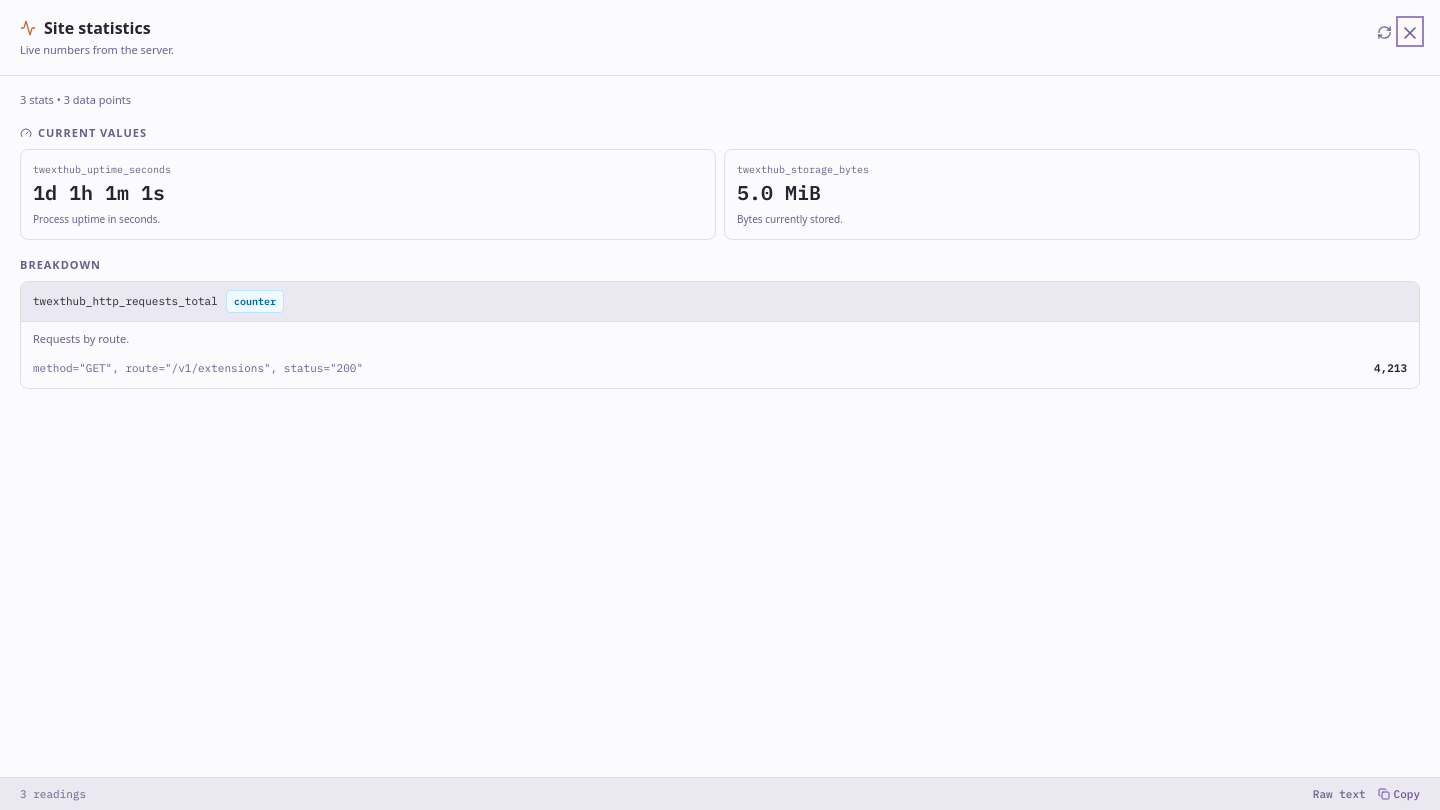
Test: MetricsModal › copies the raw exposition
Expected: the text "twexthub_uptime_seconds" is shown, 33,163 -> 171,176
Click the button "Copy". click: (1399, 794)
box: 1378,786 -> 1420,802
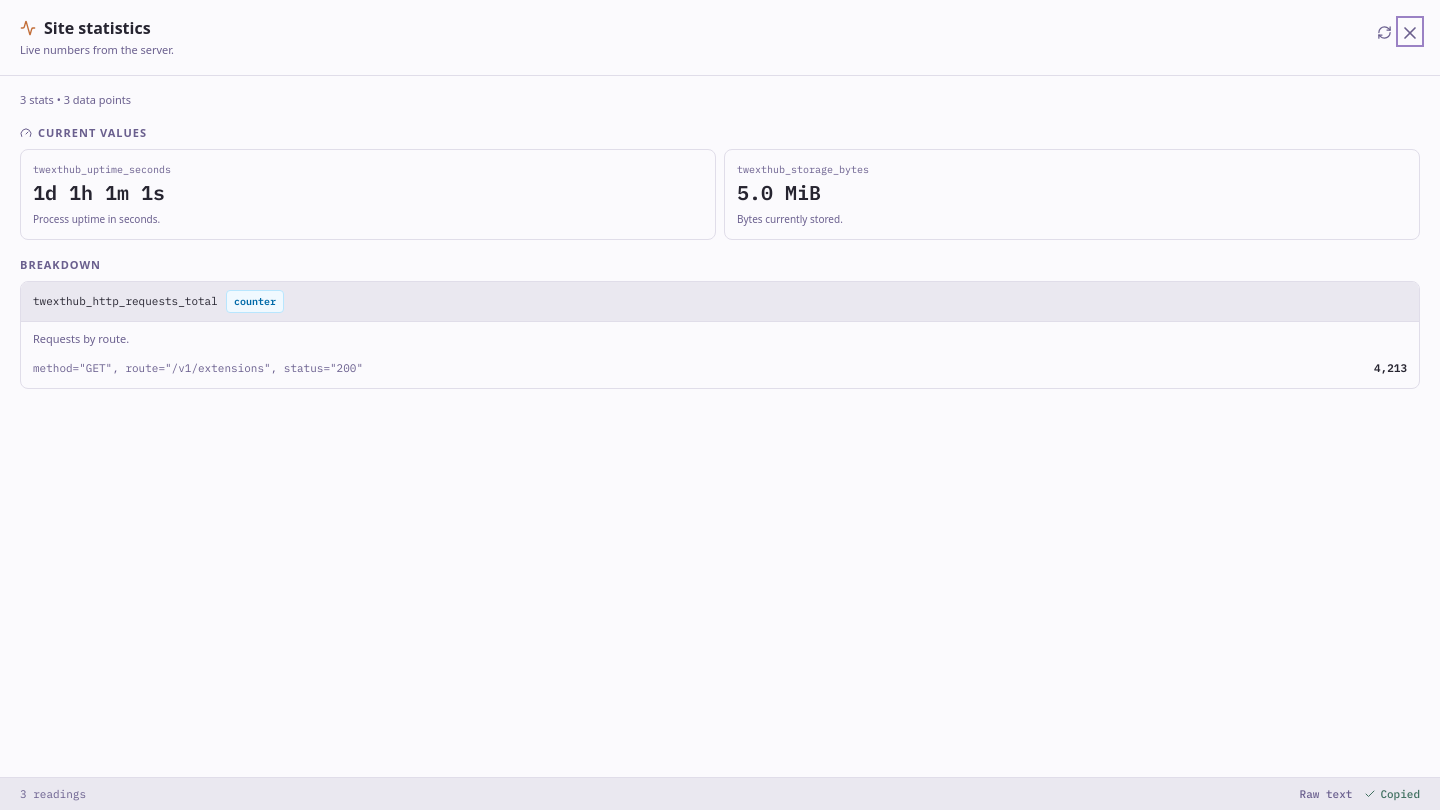
Result: the text "Copied" is shown at 1380,786 -> 1420,802
